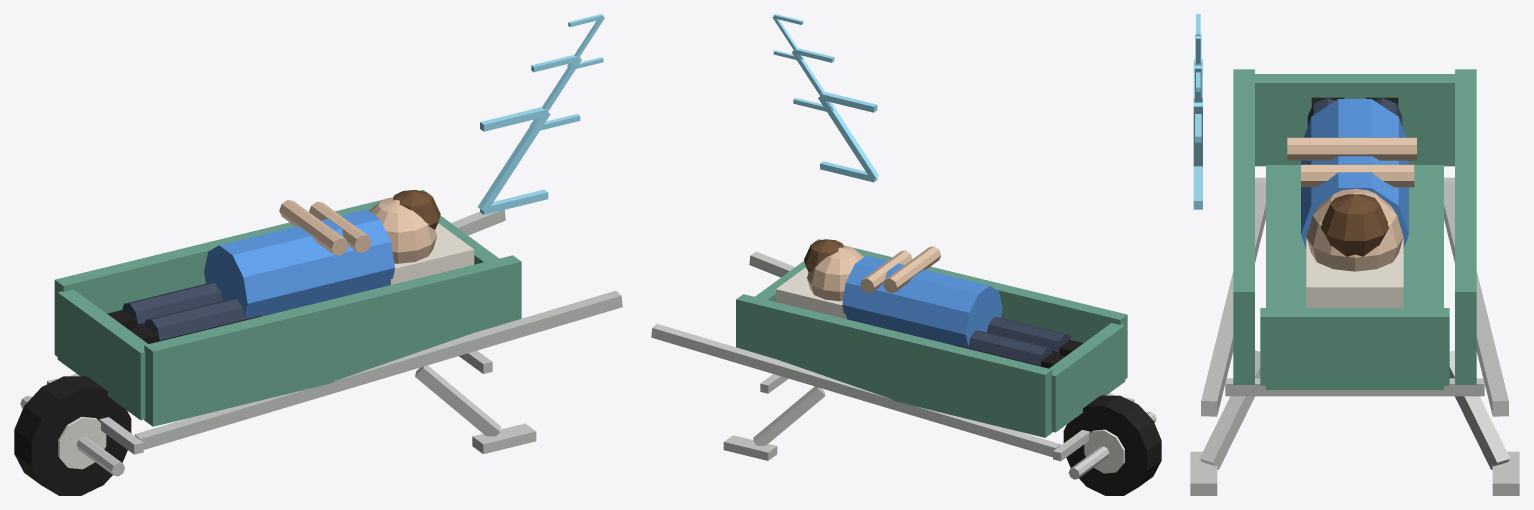
File: persona-durmiendo-carretilla.glb
3 views of the same model, side by side, from view 1: azimuth 30°, elevation 25°; view 2: azimuth 150°, elevation 25°; view 3: azimuth 270°, elevation 25° (orthographic). The views are drawn at different scales.
Visible parts, largest first — view 1: green_tray_left_wall, blue_sleeping_torso, left_metal_handle, front_black_wheel, green_tray_front_wall, green_tray_right_wall, sleeping_head, left_dark_pant_leg, simple_pillow, right_dark_pant_leg, left_support_leg, front_wheel_hub (+11 smaller); view 2: green_tray_right_wall, blue_sleeping_torso, right_metal_handle, front_black_wheel, green_tray_front_wall, green_tray_left_wall, sleeping_head, right_dark_pant_leg, simple_pillow, left_dark_pant_leg, right_support_leg, front_wheel_hub (+8 smaller); view 3: green_tray_back_wall, green_tray_bottom, green_tray_front_wall, green_tray_left_wall, green_tray_right_wall, blue_sleeping_torso, simple_pillow, brown_hair_cap, sleeping_head, front_skin_arm, left_metal_handle, right_metal_handle (+8 smaller).
Part boxes in pixels (x1,y1,x2,y2): green_tray_left_wall: (144, 255, 521, 426); blue_sleeping_torso: (204, 209, 394, 318); left_metal_handle: (134, 290, 622, 449); front_black_wheel: (14, 376, 131, 495); green_tray_front_wall: (57, 289, 148, 420); green_tray_right_wall: (54, 190, 425, 356); sleeping_head: (369, 197, 436, 263); left_dark_pant_leg: (144, 299, 261, 341); simple_pillow: (390, 223, 474, 285); right_dark_pant_leg: (122, 283, 222, 327); left_support_leg: (415, 365, 501, 436); front_wheel_hub: (58, 416, 106, 469); green_tray_right_wall: (736, 294, 1052, 437); blue_sleeping_torso: (842, 255, 1002, 346); right_metal_handle: (651, 324, 1060, 457); front_black_wheel: (1063, 395, 1161, 495); green_tray_front_wall: (1049, 323, 1125, 432); green_tray_left_wall: (816, 239, 1127, 378); sleeping_head: (807, 245, 863, 301); right_dark_pant_leg: (954, 330, 1052, 366); simple_pillow: (776, 267, 846, 319); left_dark_pant_leg: (987, 317, 1070, 354); right_support_leg: (753, 386, 825, 445); front_wheel_hub: (1084, 429, 1124, 473); green_tray_back_wall: (1260, 308, 1449, 385); green_tray_bottom: (1266, 165, 1443, 389); green_tray_front_wall: (1255, 74, 1454, 166); green_tray_left_wall: (1233, 69, 1254, 384); green_tray_right_wall: (1455, 69, 1476, 384); blue_sleeping_torso: (1301, 99, 1408, 248); simple_pillow: (1306, 238, 1403, 307); brown_hair_cap: (1321, 194, 1388, 256); sleeping_head: (1306, 188, 1403, 271); front_skin_arm: (1287, 137, 1416, 160); left_metal_handle: (1201, 182, 1265, 416); right_metal_handle: (1444, 182, 1508, 416).
Bounding box in the file's own units: 2.85 × 2.06 × 1.22.
